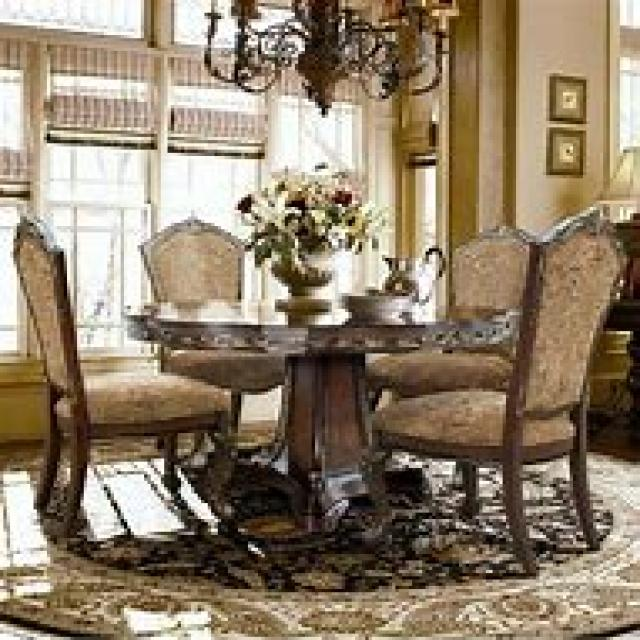chair: (362, 204, 626, 573), (10, 214, 231, 542), (134, 217, 285, 456)
table: (124, 293, 637, 541)
